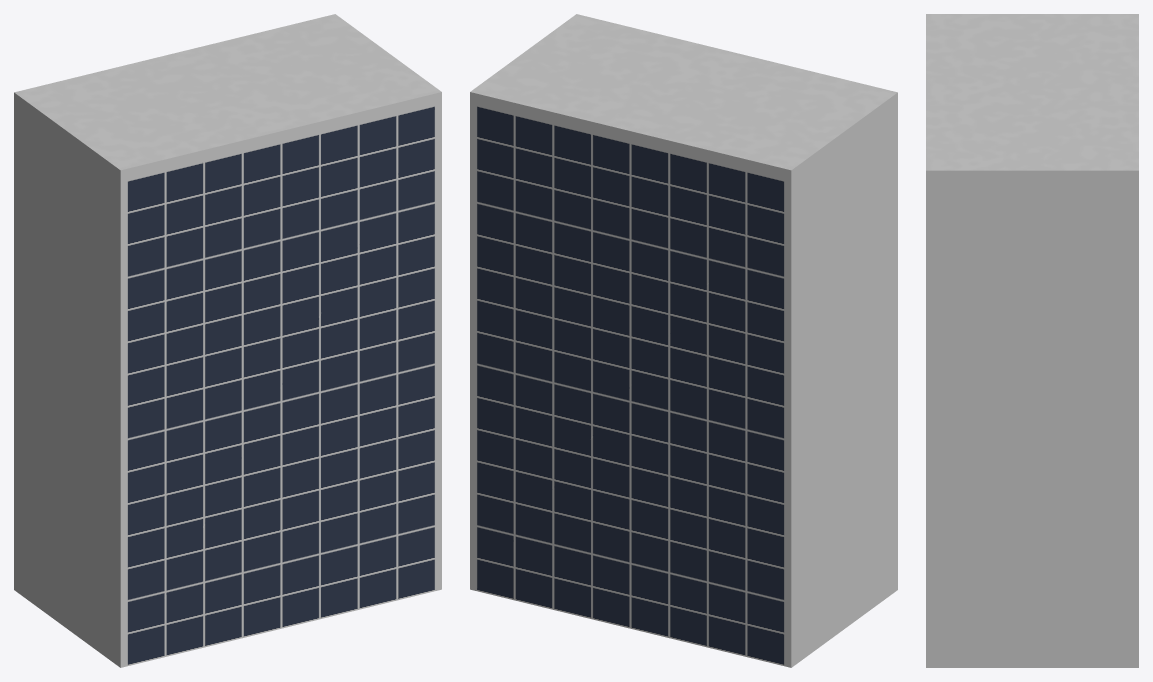
The model's file is Building_LM_W5_001.fbx.
3 renders of one model, left to right at view 1: azimuth 30°, elevation 25°; view 2: azimuth 150°, elevation 25°; view 3: azimuth 270°, elevation 25°, orthographic.
Parts seen in each view (by area): view 1: Building_LM_W5_001; view 2: Building_LM_W5_001; view 3: Building_LM_W5_001.
Boxes of the visible parts, x1=… form: Building_LM_W5_001: x1=14, y1=14, x2=441, y2=667; Building_LM_W5_001: x1=470, y1=14, x2=897, y2=667; Building_LM_W5_001: x1=926, y1=14, x2=1138, y2=667.
Size of the model in its own units: 45.83 by 67.81 by 26.32.
